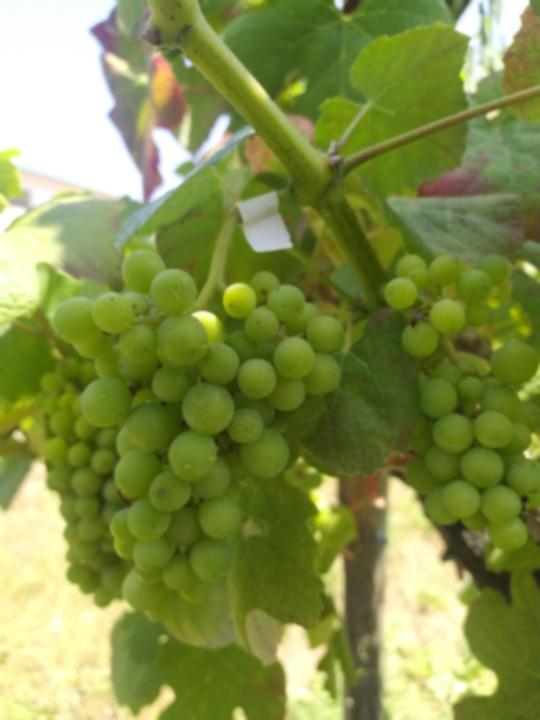grape: (50, 247, 348, 627)
